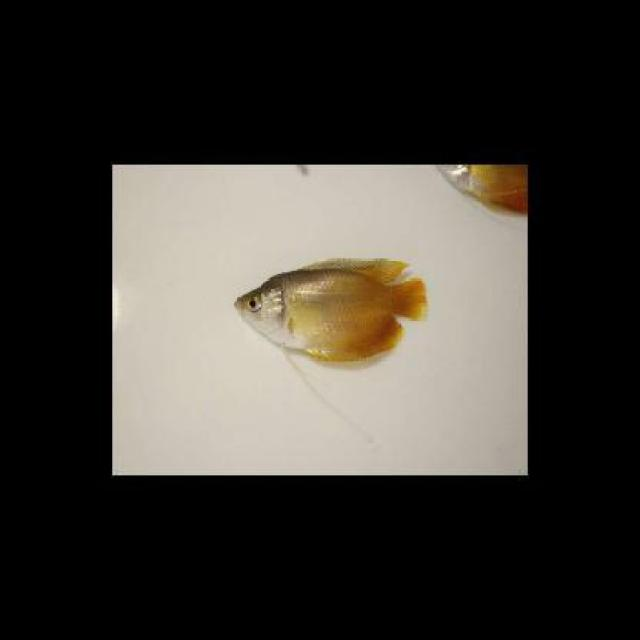Gourami: (236, 255, 427, 357)
